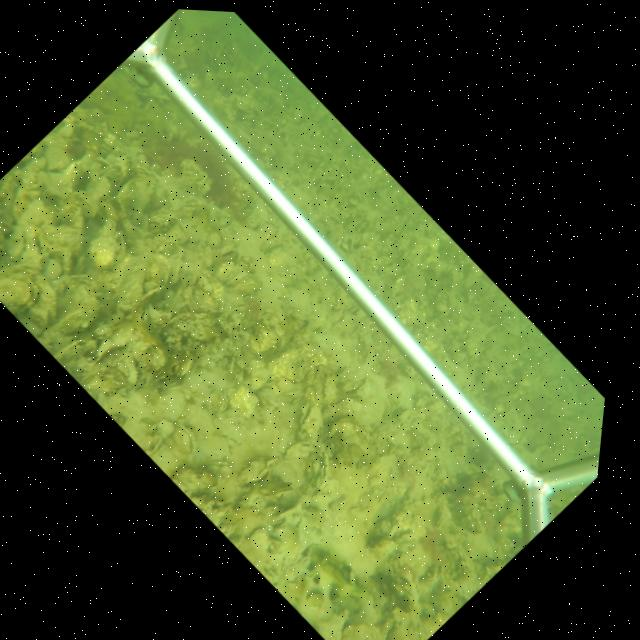Oyster-Closed: (58, 300, 102, 334), (235, 454, 280, 486), (170, 423, 197, 455), (134, 285, 164, 312), (339, 375, 368, 393), (264, 486, 292, 501), (168, 256, 182, 284), (275, 366, 294, 381)
Oyster-Indeterminate: (83, 346, 141, 391), (283, 439, 329, 490), (114, 164, 157, 216)
